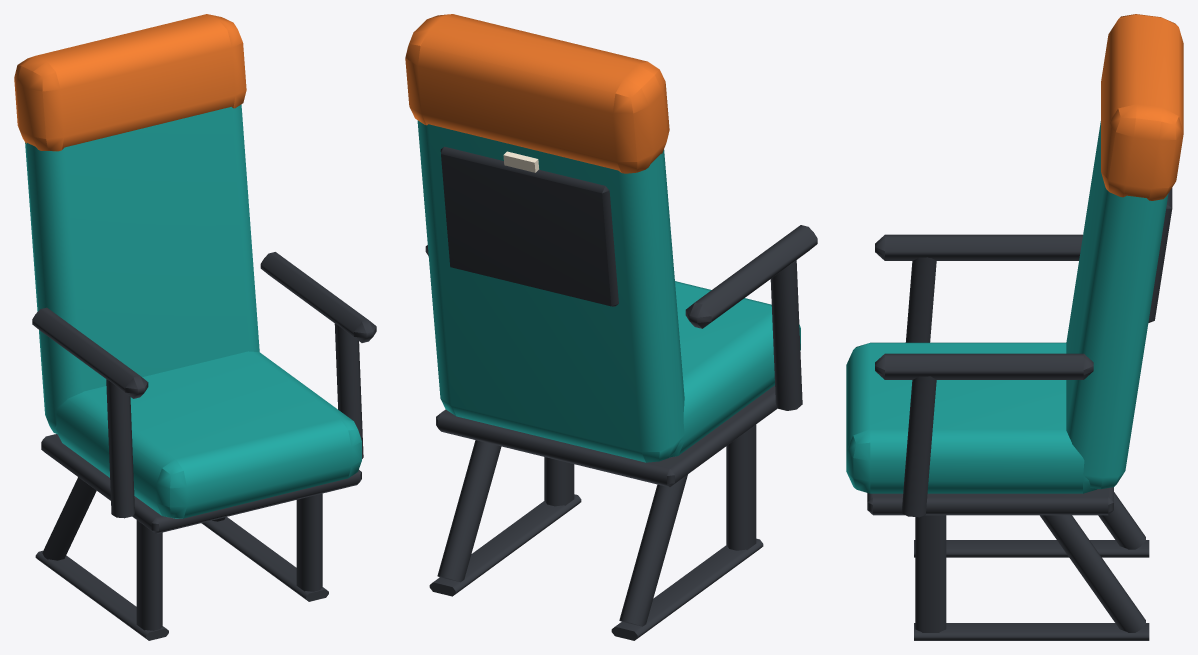
The model's file is Asiento.fbx.
The picture shows the model from 3 angles, left to right: view 1: azimuth 30°, elevation 25°; view 2: azimuth 150°, elevation 25°; view 3: azimuth 270°, elevation 25°; orthographic projection. The views are drawn at different scales.
Parts seen in each view (by area): view 1: Asiento; view 2: Asiento; view 3: Asiento.
Part boxes in pixels (box(x1,y1,x2,y2)): Asiento: box(14, 14, 376, 640); Asiento: box(405, 14, 817, 640); Asiento: box(846, 14, 1183, 640).
Bounding box in the file's own units: 2.2 × 4.2 × 2.4.
Materials: 1 (1 with a texture image).
